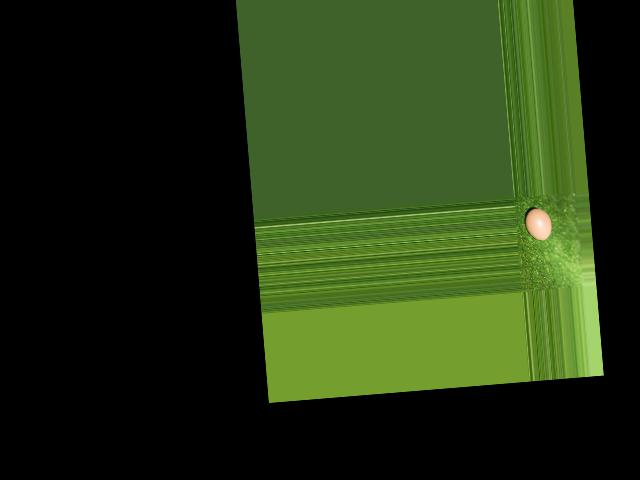egg: (523, 207, 552, 242)
